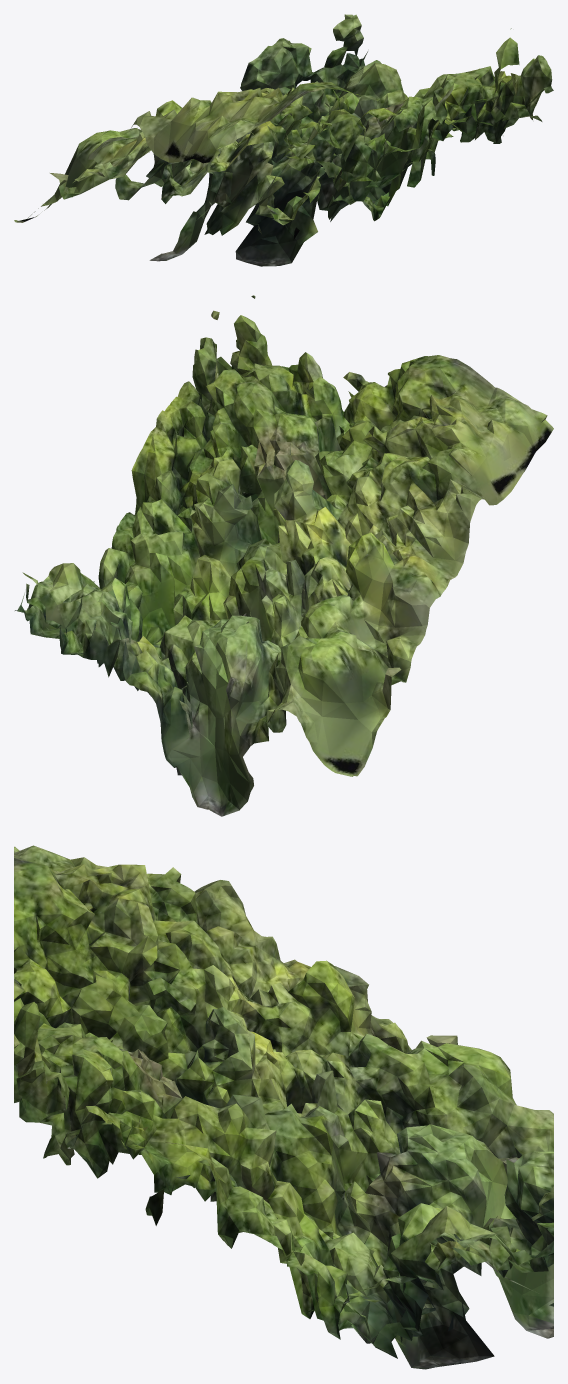
3 views of the same model, one above another, from view 1: azimuth 30°, elevation 25°; view 2: azimuth 150°, elevation 25°; view 3: azimuth 270°, elevation 25° (orthographic). The views are drawn at different scales.
Size of the model in its own units: 104 by 98.13 by 104.
6 materials, 6 textured.
